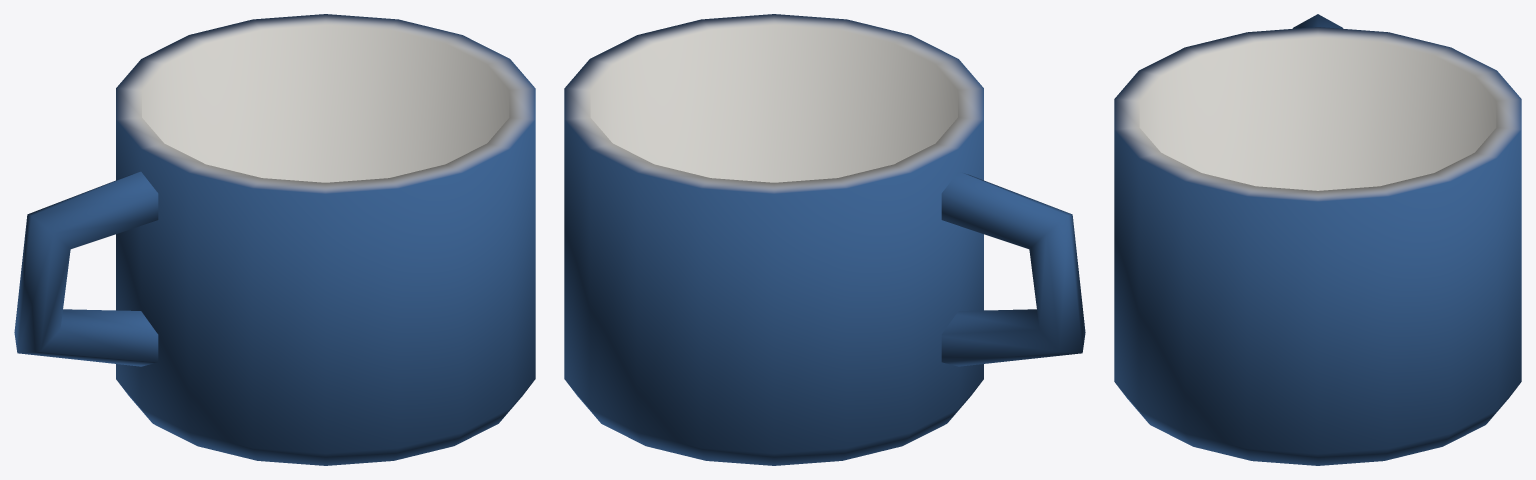
Rendered from Hut_Mug.fbx.
The picture shows the model from 3 angles, left to right: view 1: azimuth 30°, elevation 25°; view 2: azimuth 150°, elevation 25°; view 3: azimuth 270°, elevation 25°; orthographic projection. The views are drawn at different scales.
Parts seen in each view (by area): view 1: Hut_Mug; view 2: Hut_Mug; view 3: Hut_Mug.
Boxes of the visible parts, x1,y1,x2,y2 form: Hut_Mug: [14, 14, 535, 465]; Hut_Mug: [564, 14, 1085, 465]; Hut_Mug: [1114, 14, 1521, 465].
Bounding box in the file's own units: 8.55 × 4.6 × 6.3.
